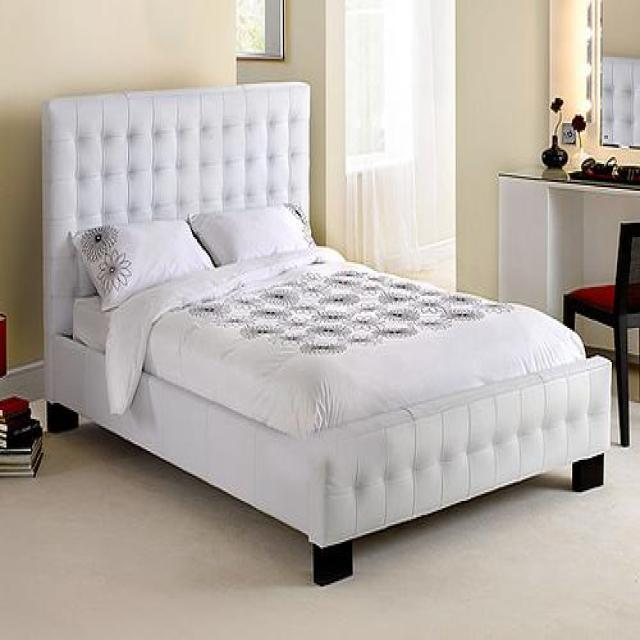bed: (42, 78, 614, 590)
